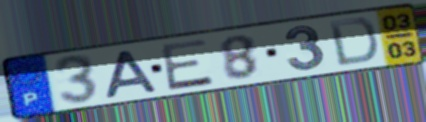3: (54, 52, 99, 107), (282, 23, 327, 74)
8: (217, 33, 261, 82)
A: (103, 48, 162, 101)
D: (326, 16, 381, 68)
E: (157, 37, 216, 93)
